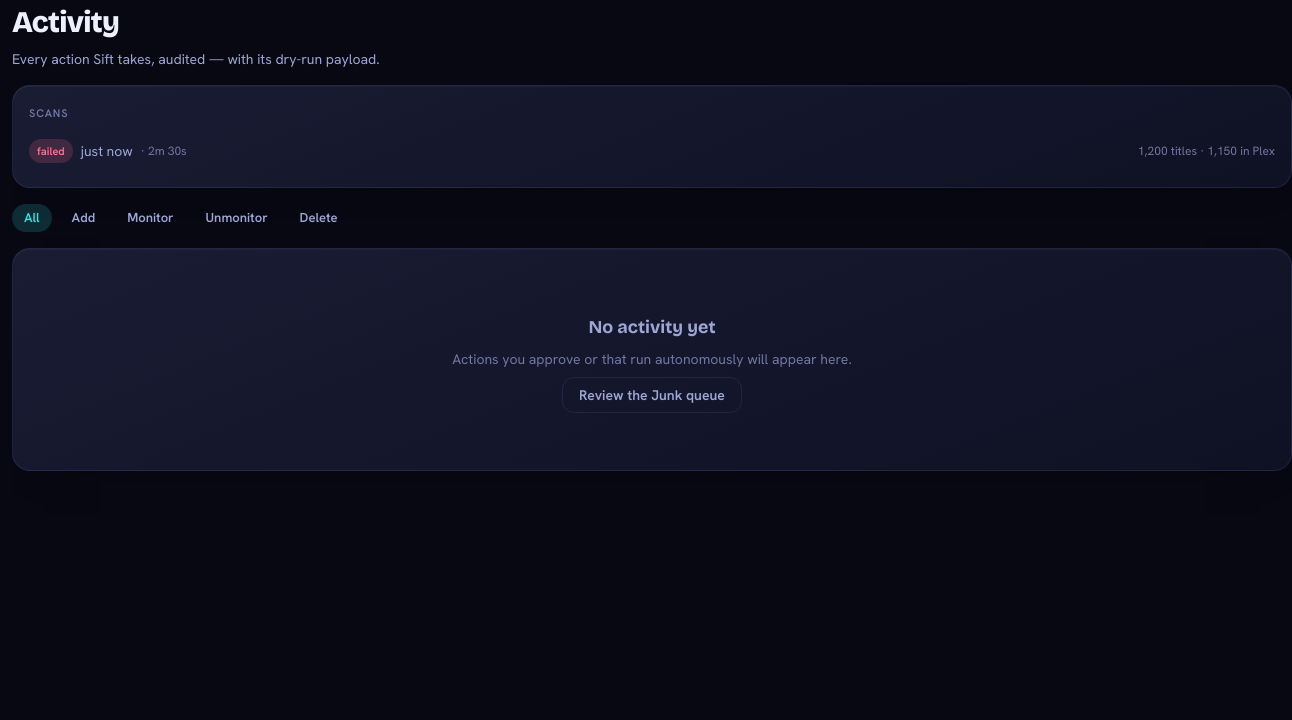
Test: the scan panel › shows why a run failed, in the run's own entry
The image size is (1292, 720).
Click the button "failed just now · 2m 30s 1,200 titles · 1,150 in Plex".
click(51, 151)  # box [29,139,1275,163]
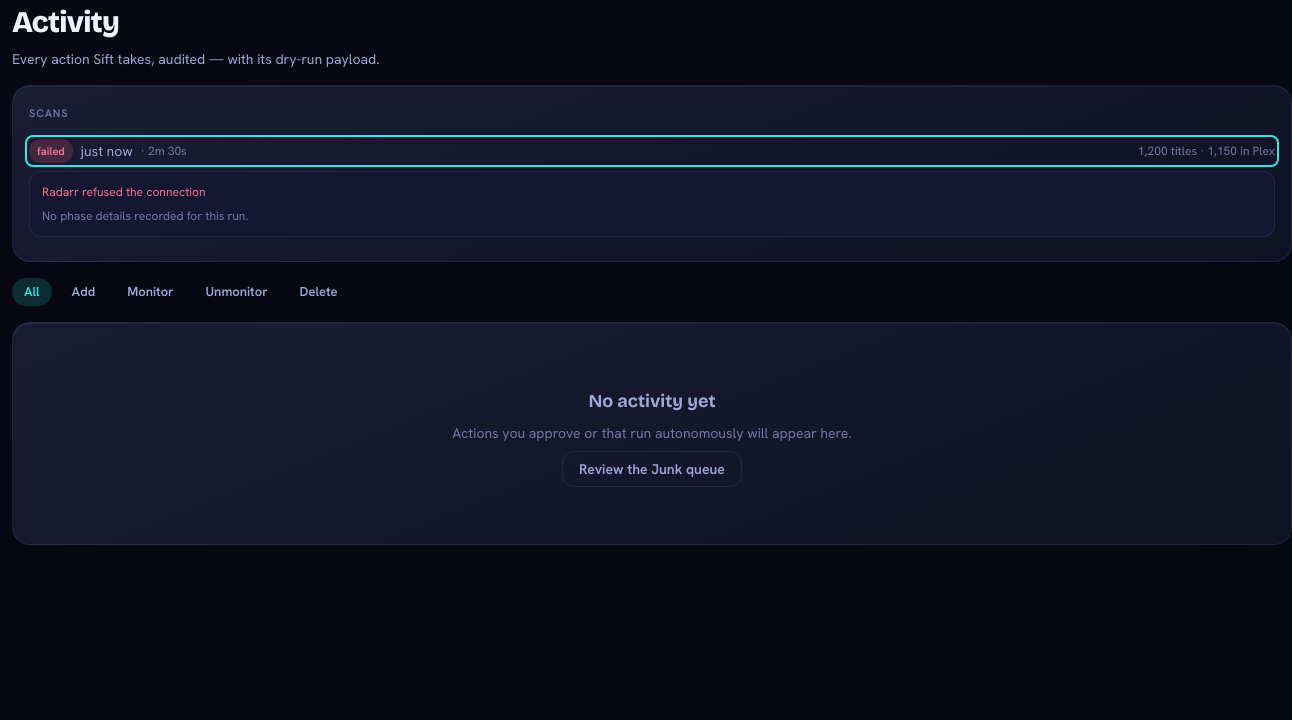
Expected: the text "Radarr refused the connection" is shown, [42,184,206,200]
Expected: the text "No phase details recorded for this run." is shown, [42,208,248,224]
